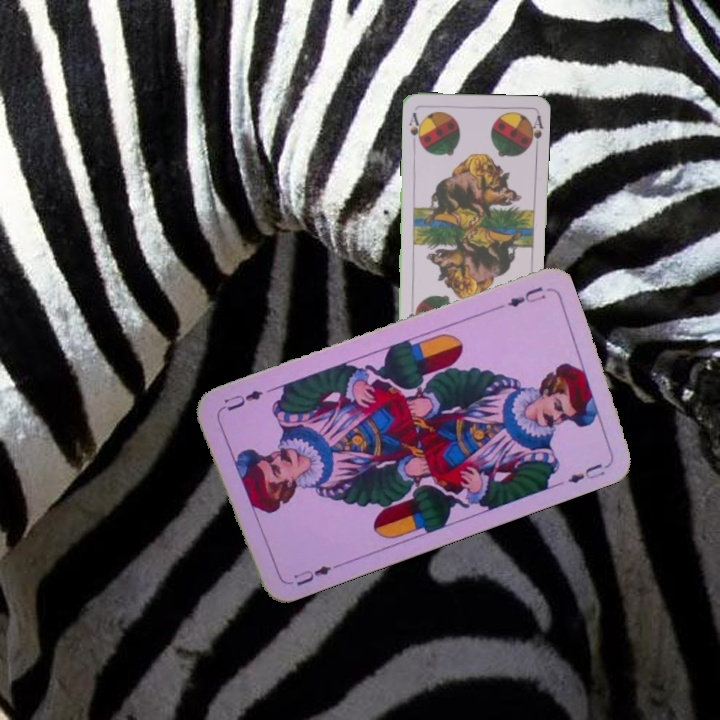EU: (289, 561, 334, 589), (503, 282, 548, 310)
SA: (405, 109, 425, 147)
